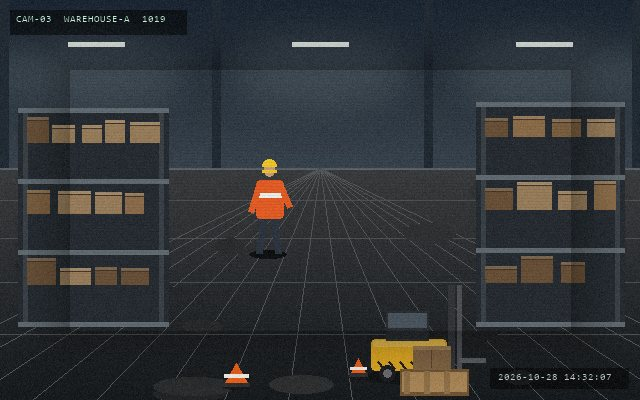cone: (222, 361, 250, 389), (348, 356, 368, 379)
forklift: (367, 284, 487, 384)
pallet: (398, 367, 470, 397)
person: (248, 157, 291, 257)
shelf: (476, 102, 624, 322), (18, 108, 168, 322)
